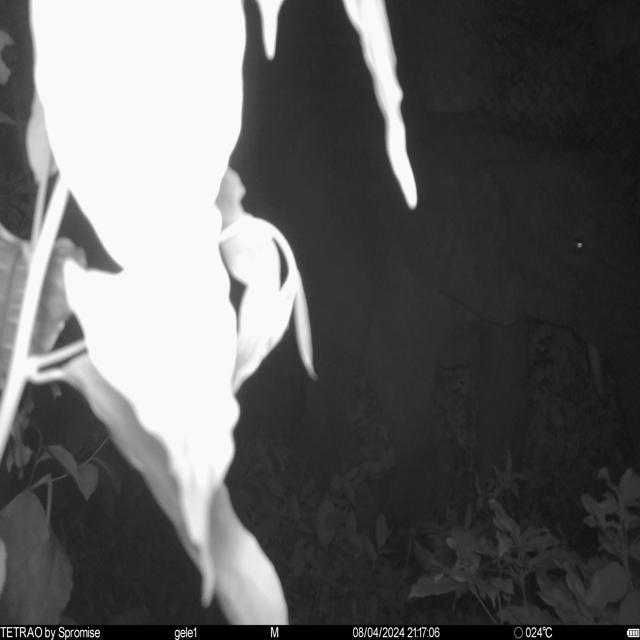ear: (396, 132, 530, 330)
elephant: (303, 94, 640, 523)
tusk: (586, 342, 606, 408)
